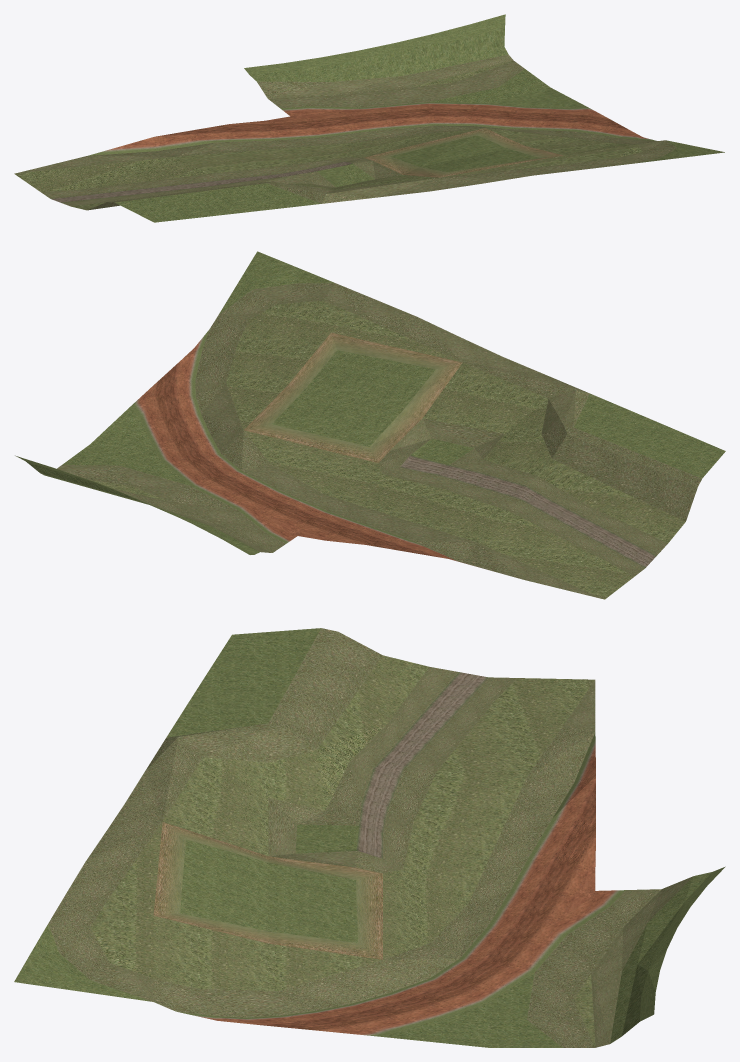
File: se_bit_13.obj
The picture shows the model from 3 angles, top to bottom: view 1: azimuth 30°, elevation 25°; view 2: azimuth 150°, elevation 25°; view 3: azimuth 270°, elevation 25°; orthographic projection. The views are drawn at different scales.
Parts seen in each view (by area): view 1: se_bit_13; view 2: se_bit_13; view 3: se_bit_13.
Boxes of the visible parts, left/top/right/bottom form: se_bit_13: left=14, top=14, right=724, bottom=222; se_bit_13: left=15, top=251, right=725, bottom=599; se_bit_13: left=14, top=628, right=725, bottom=1047.
Bounding box in the file's own units: 231 × 22.95 × 191.
Materials: 11 (11 with a texture image).
